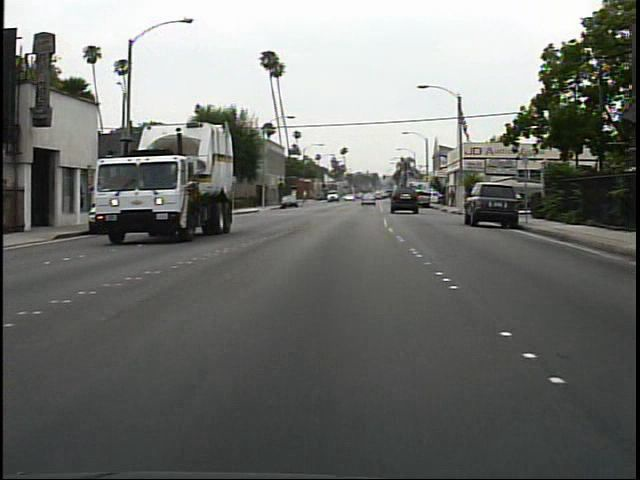person: (443, 184, 460, 213)
